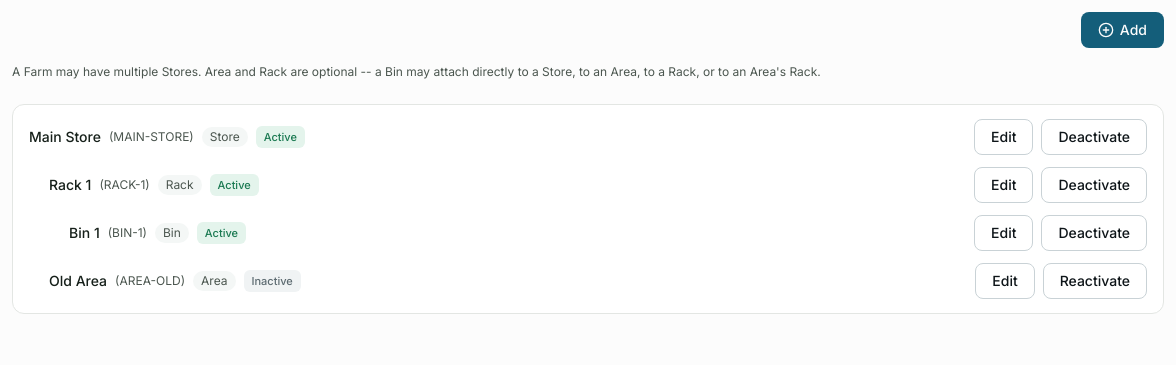
Test: StorageSection maintenance › shows a friendly message when deactivation is blocked by active children
expect the text "Rack 1" is shown: met, box [49,175,91,195]
Click the button "Deactivate" in the row of "RACK-1" at (1094, 185), box [1042,167,1147,203]
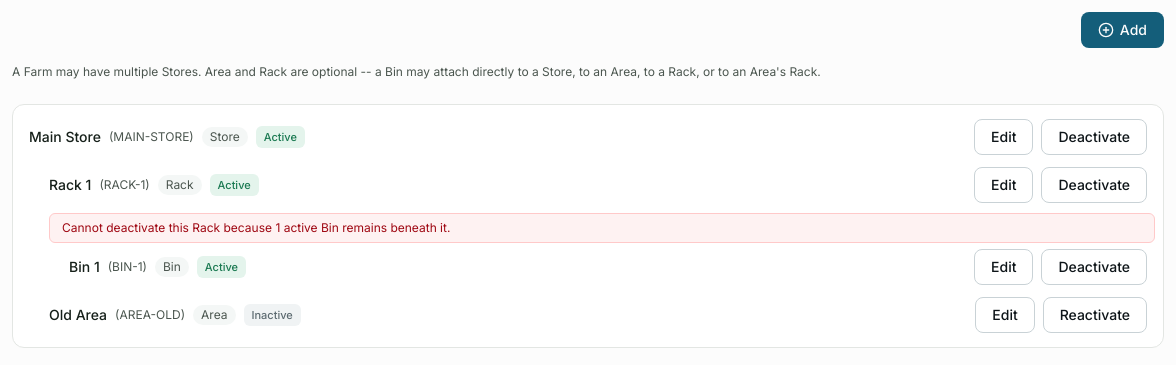
expect the text "Cannot deactivate this Rack because 1 active Bin remains beneath it." is shown: met, box [49,213,1155,243]
